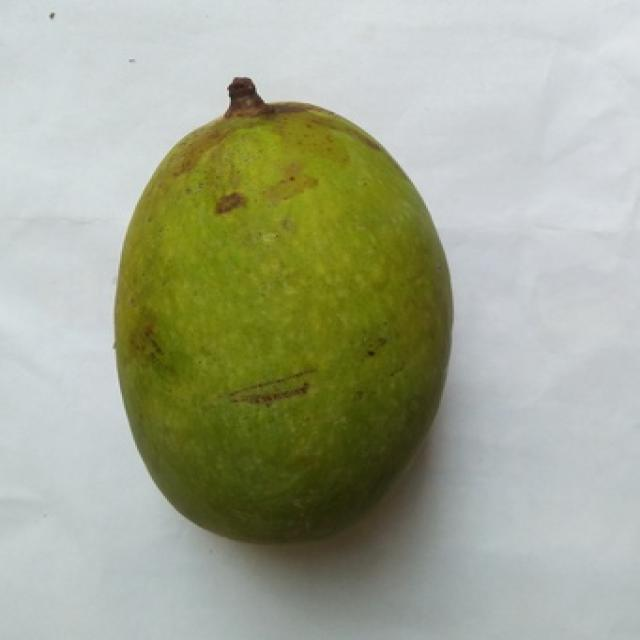Mango: (114, 86, 450, 541)
